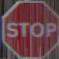Stop: (2, 2, 53, 52)
